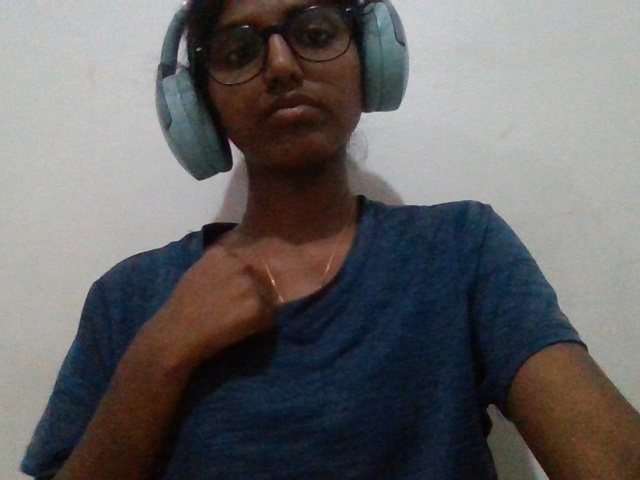Sorry: (120, 234, 322, 437)
